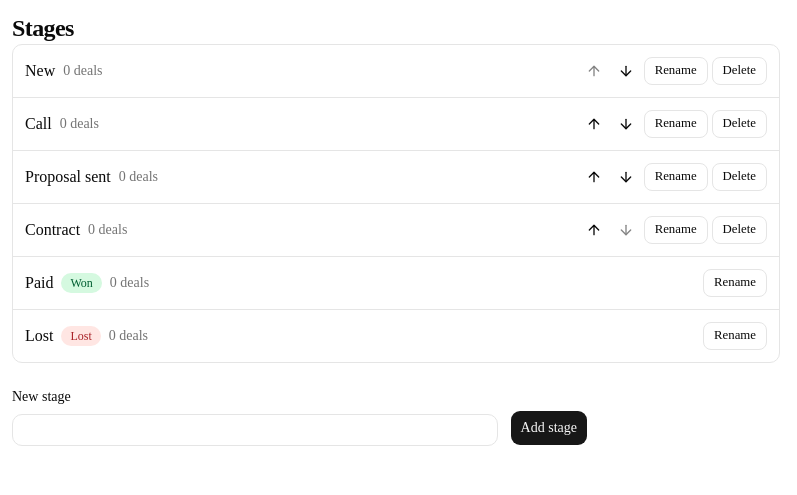
Test case: StageManager › should close the rename form and focus Rename when Escape is pressed on Cancel
Step 1. Click the button with aria-label "Rename Call" → click(676, 124), box [644,110,708,138]
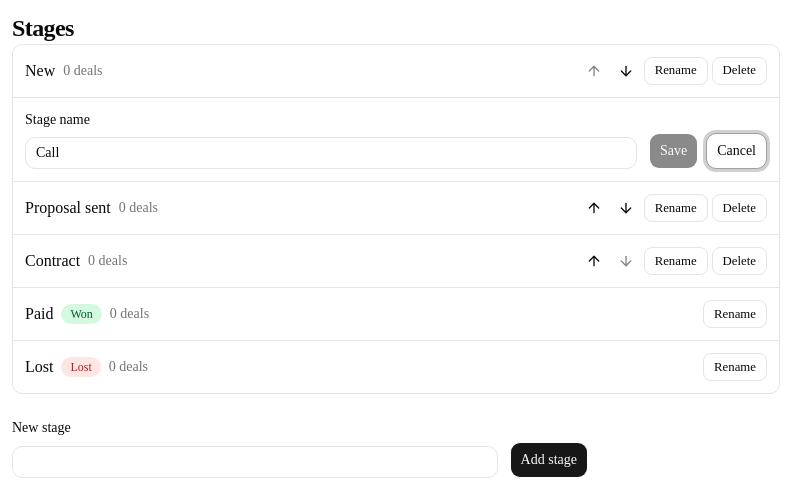
Step 2. Press Escape
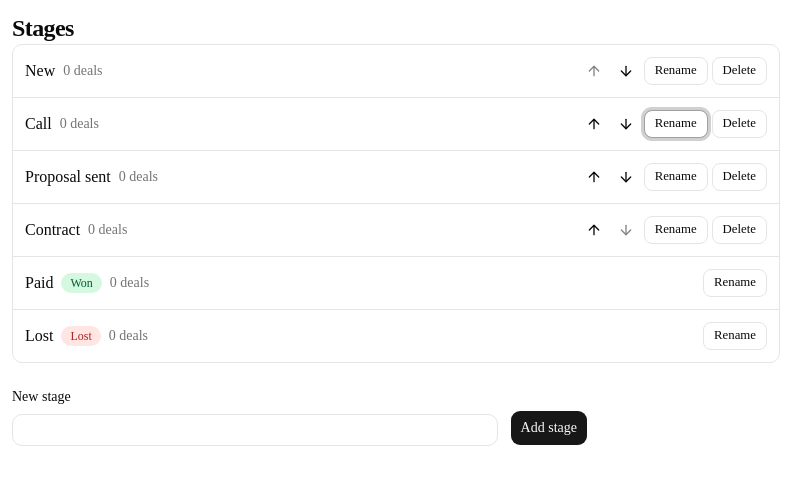
Result: the label labelled "Stage name" is gone
